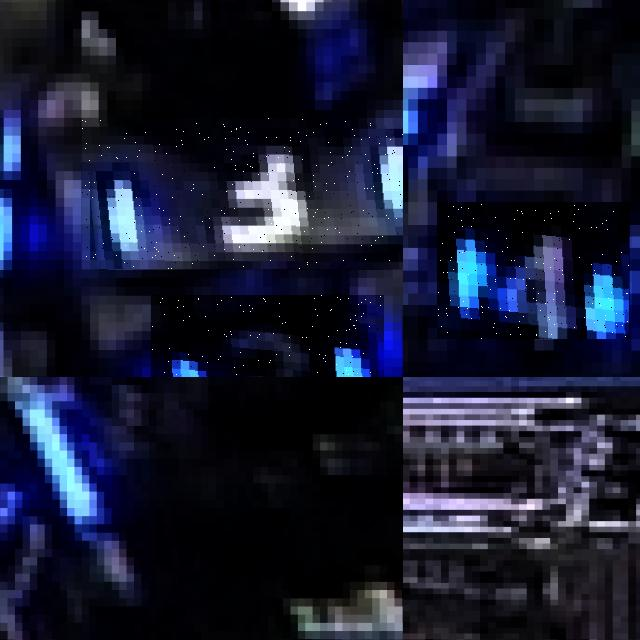B3: (81, 118, 403, 269), (150, 295, 384, 377)
B4: (438, 202, 632, 339)
